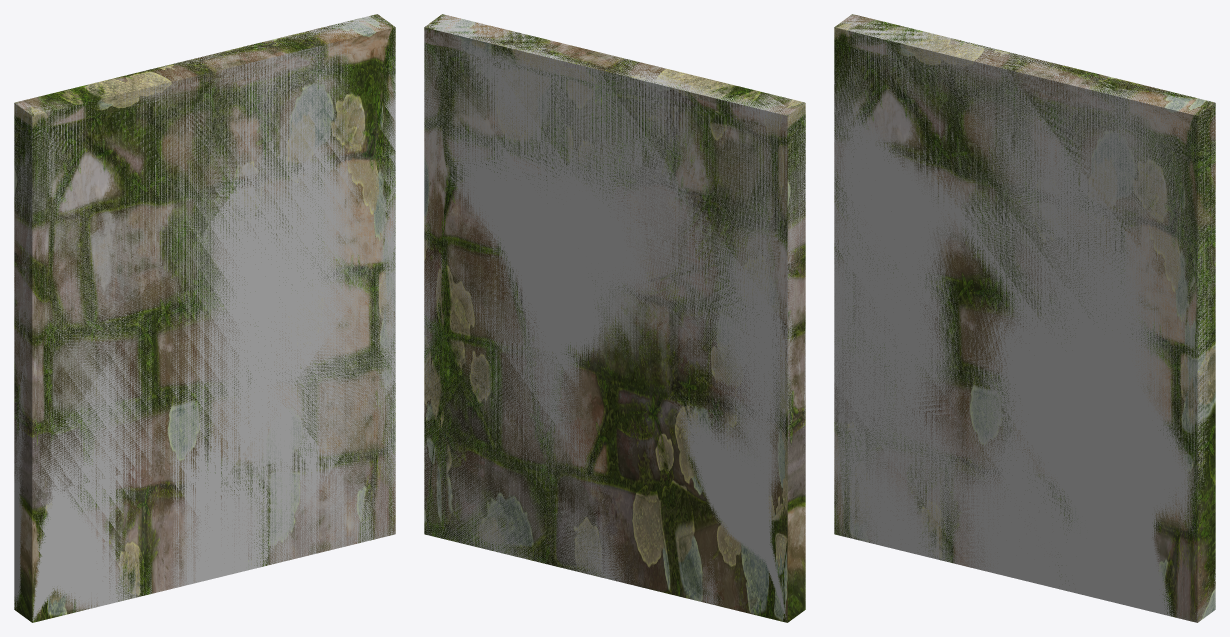
File: SM_WallSmall.fbx
The picture shows the model from 3 angles, left to right: view 1: azimuth 30°, elevation 25°; view 2: azimuth 150°, elevation 25°; view 3: azimuth 330°, elevation 25°; orthographic projection.
Parts seen in each view (by area): view 1: SM_WallSmall_ConvexHulls, SM_WallSmall; view 2: SM_WallSmall, SM_WallSmall_ConvexHulls; view 3: SM_WallSmall_ConvexHulls, SM_WallSmall.
Part boxes in pixels (box(x1,y1,x2,y2)): SM_WallSmall_ConvexHulls: box(14, 14, 395, 621); SM_WallSmall: box(14, 14, 395, 622); SM_WallSmall: box(424, 14, 805, 622); SM_WallSmall_ConvexHulls: box(424, 14, 805, 619); SM_WallSmall_ConvexHulls: box(834, 14, 1215, 621); SM_WallSmall: box(834, 14, 1215, 622).
Bounding box in the file's own units: 300 × 26 × 400.
Materials: 2 (1 with a texture image).
